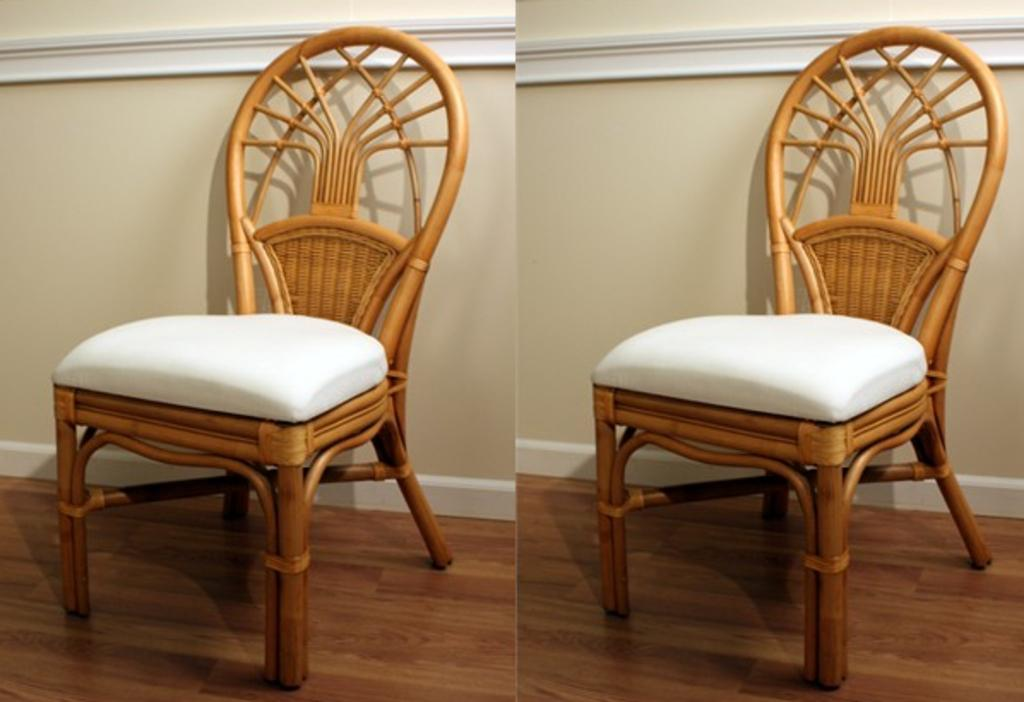Chair: (591, 27, 1009, 688), (48, 22, 457, 692)
